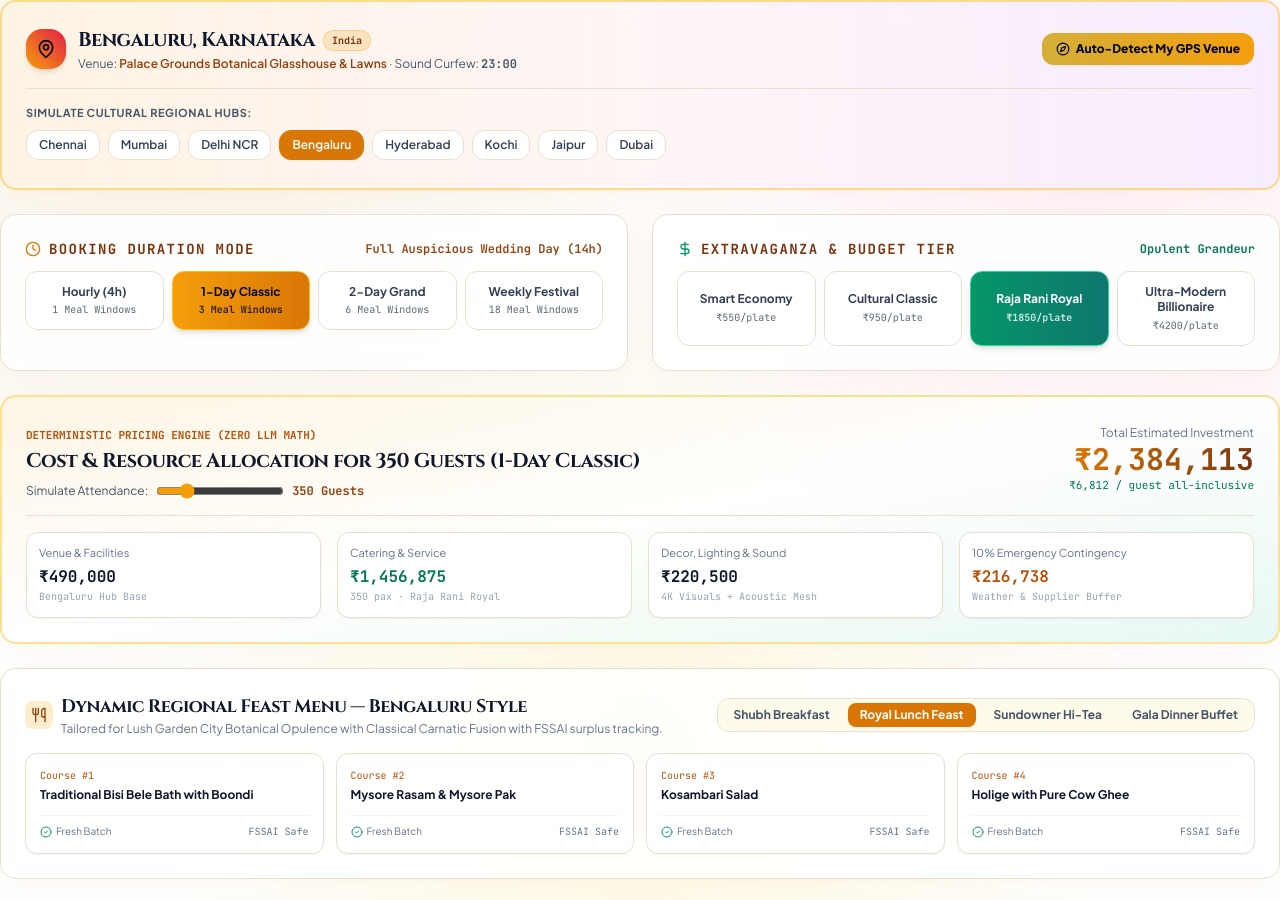
Test: DynamicItineraryMenu Unit Tests › switches to Delhi NCR and displays Mughal & Punjabi delicacies
The width and height of the screenshot is (1280, 900).
Click the button "Delhi NCR": (230, 144) [188,130,271,160]
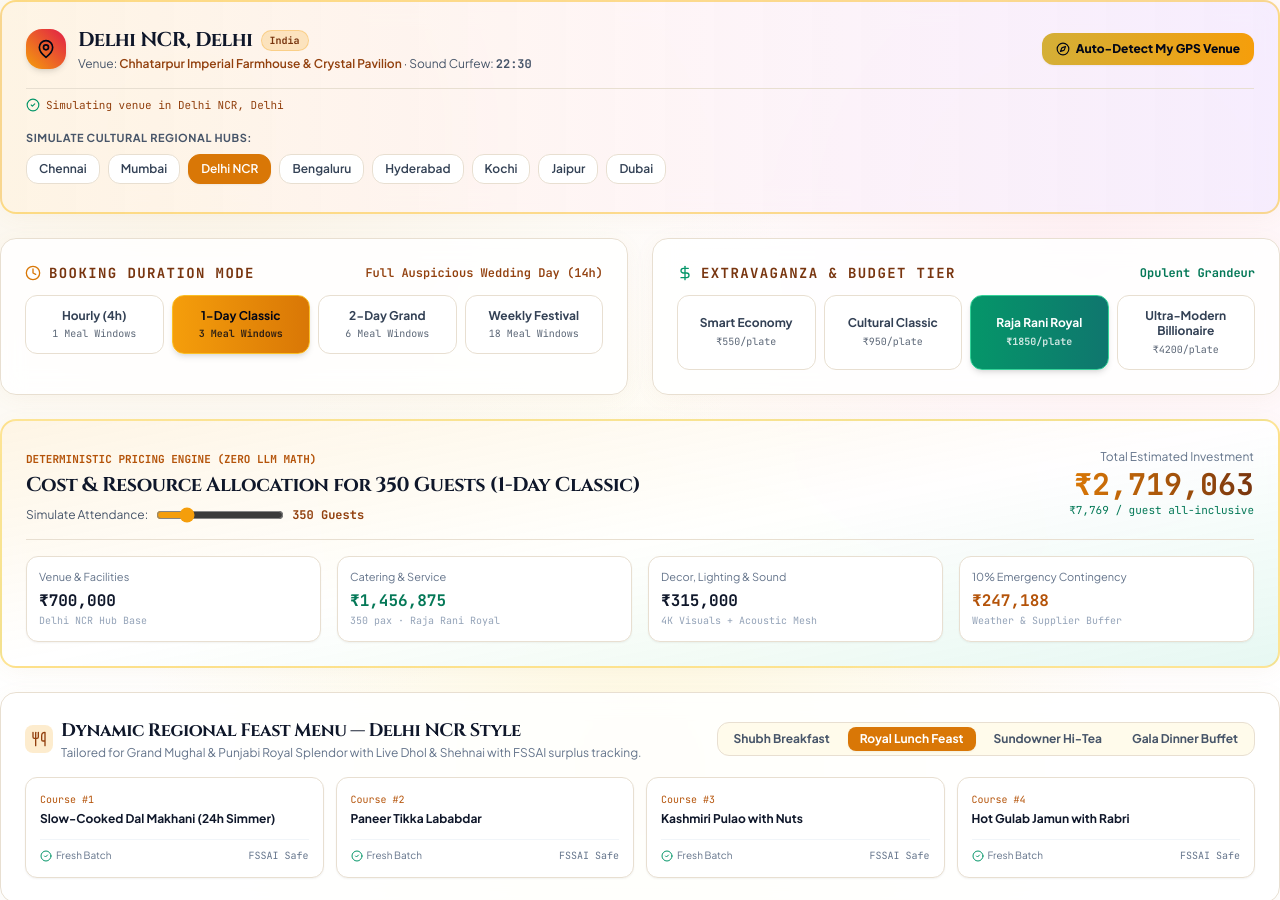
Result: the text "Chhatarpur Imperial Farmhouse & Crystal Pavilion" is shown at [119,56,402,71]
Result: the heading "Slow-Cooked Dal Makhani (24h Simmer)" is shown at [40,811,308,828]
Click the button "Shubh Breakfast": (782, 739) [722,727,842,751]
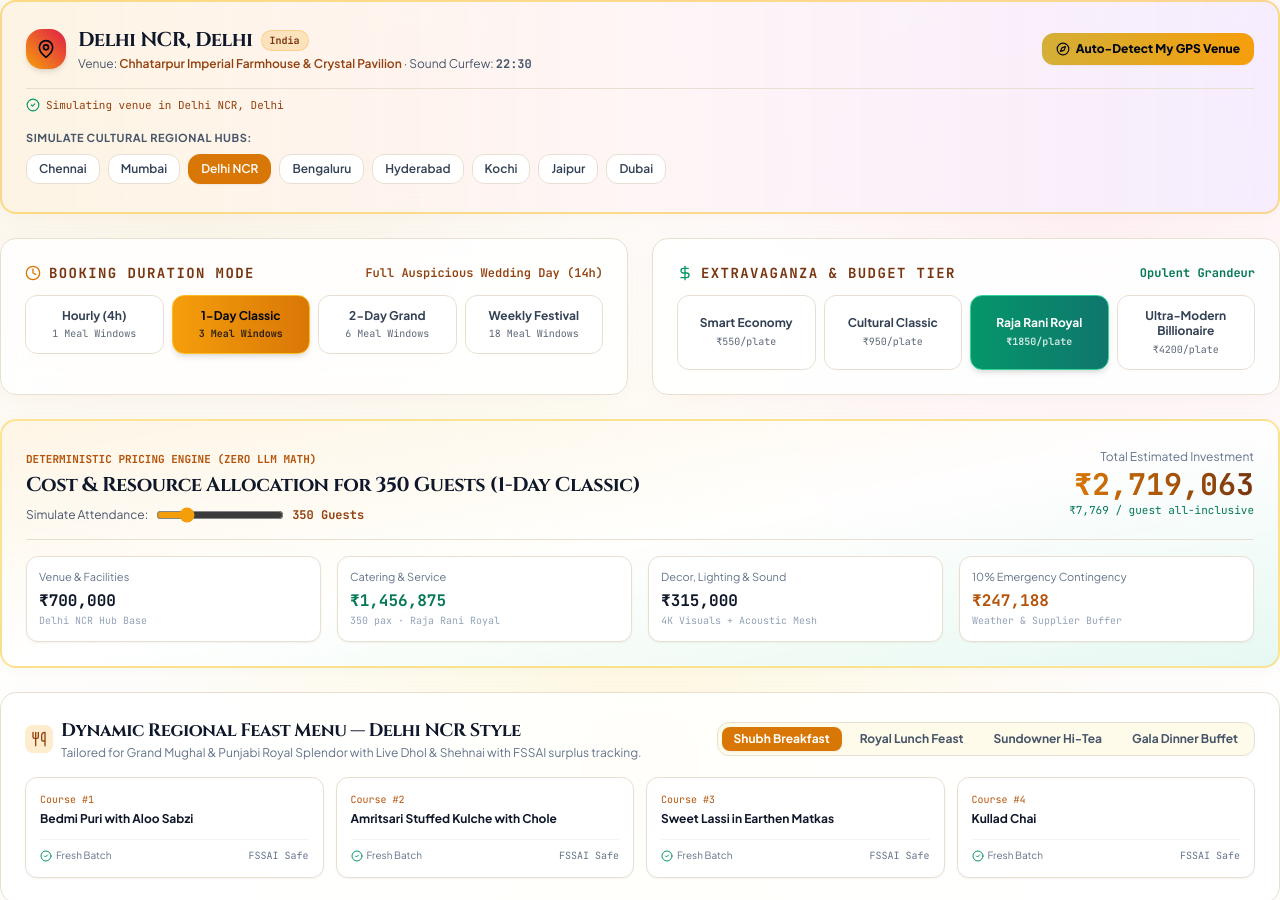
Result: the heading "Bedmi Puri with Aloo Sabzi" is shown at [40,811,193,826]
// Switch to Dinner tab for Awadhi Biryani
Click the button "Gala Dinner Buffet": (1185, 739) [1120,727,1250,751]
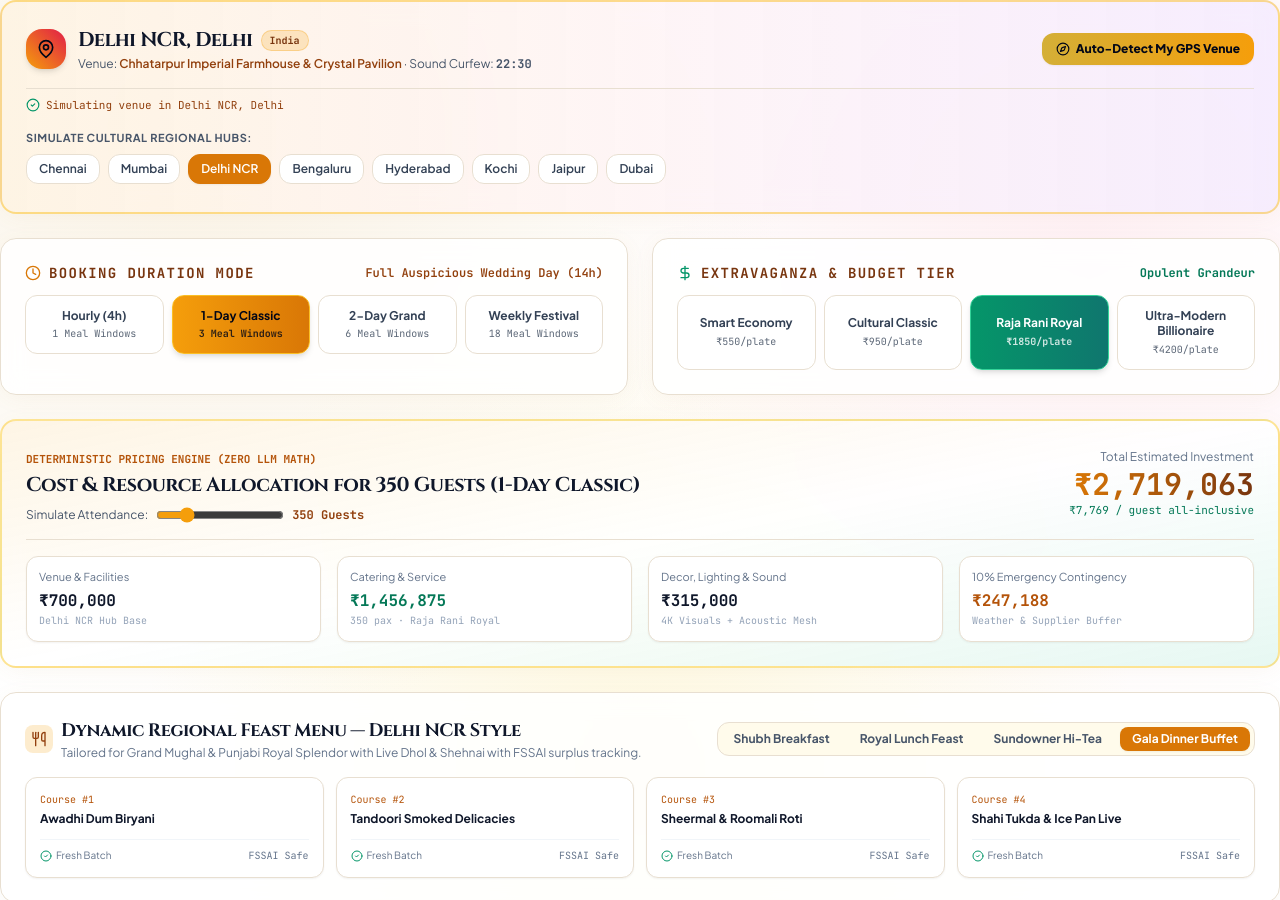
Result: the heading "Awadhi Dum Biryani" is shown at [40,811,155,826]
